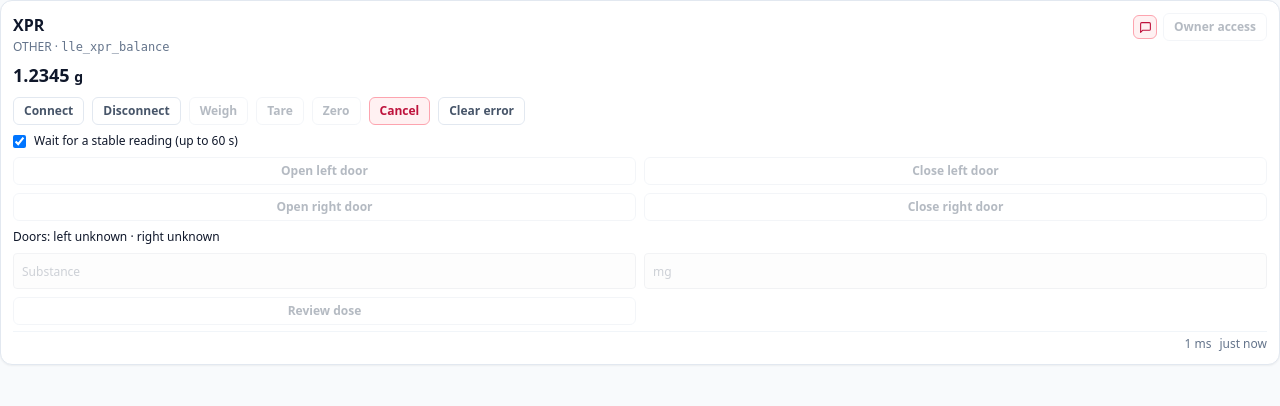
Test: offers Clear error only while last_error is set, and posts it
Expected: the button "Tare" is disabled, [256,97,304,125]
Click the button "Clear error".
click(482, 111)  # box [438,97,525,125]
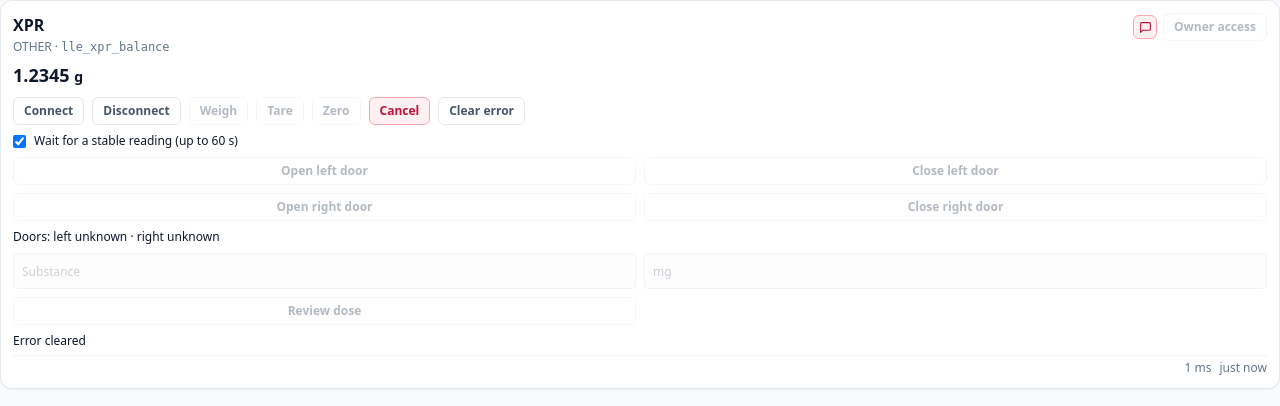
Result: the text "Error cleared" is shown at [13,332,86,349]
